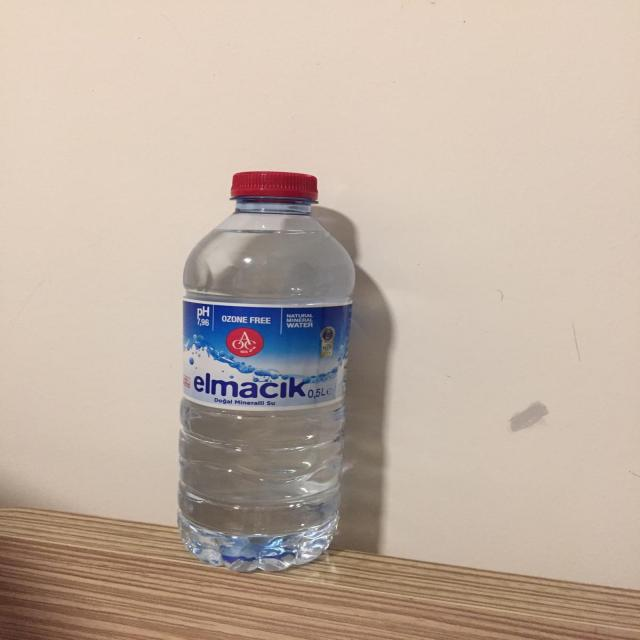bottle: (150, 155, 378, 583)
